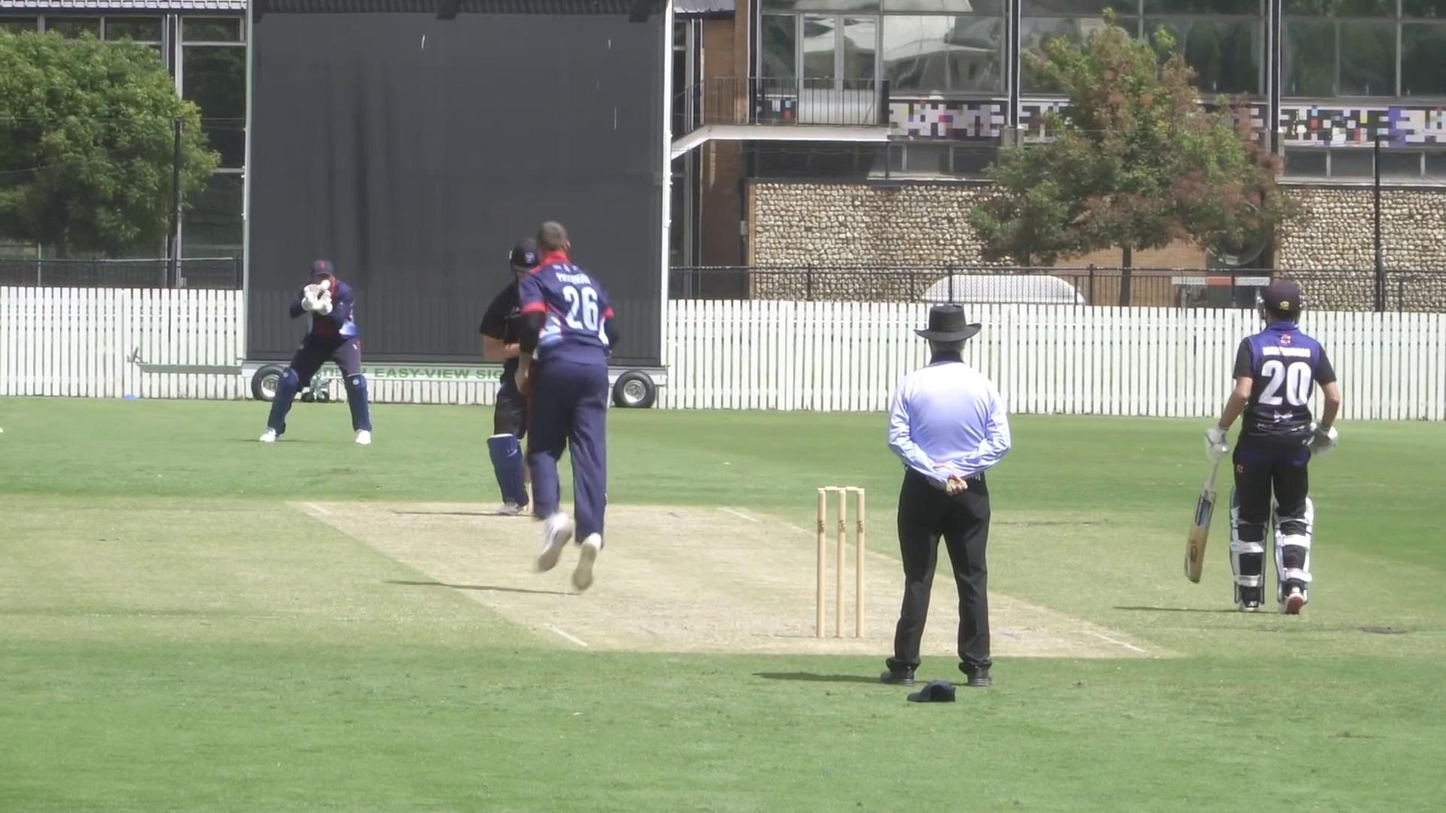ball: (315, 277, 335, 294)
